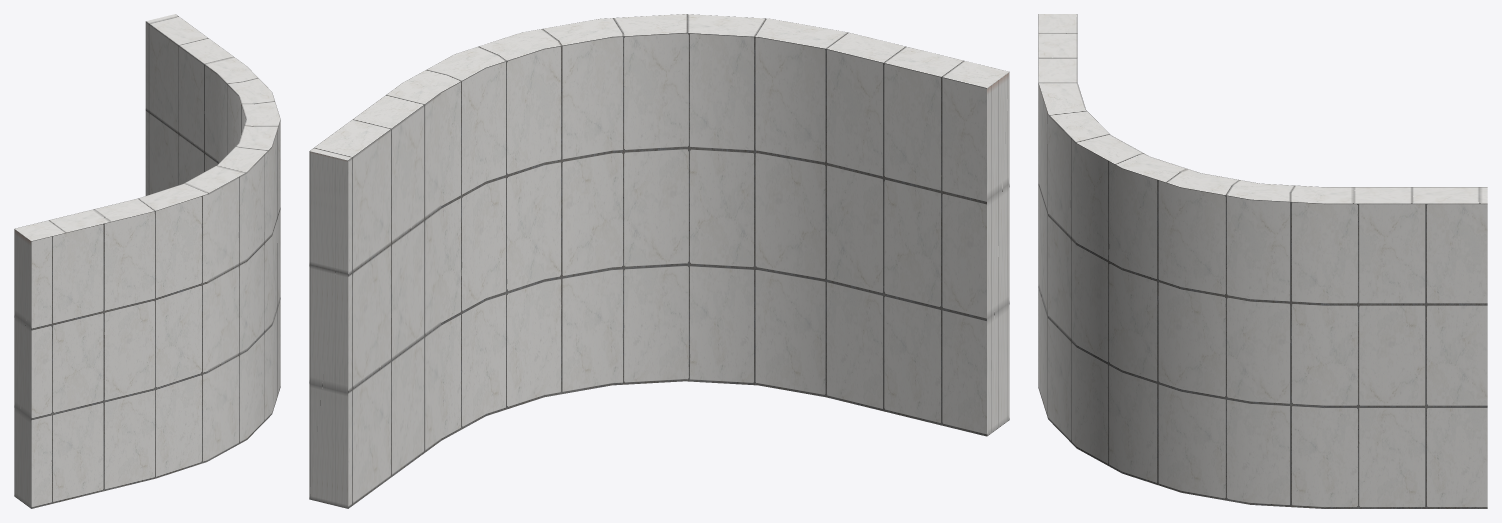
The model's file is WallCurveLowerPart_1.fbx.
3 views of the same model, side by side, from view 1: azimuth 30°, elevation 25°; view 2: azimuth 150°, elevation 25°; view 3: azimuth 270°, elevation 25° (orthographic). The views are drawn at different scales.
Visible parts, largest first — view 1: WallCurveLowerPart_1; view 2: WallCurveLowerPart_1; view 3: WallCurveLowerPart_1.
Part boxes in pixels (x1,y1,x2,y2): WallCurveLowerPart_1: [14, 14, 280, 508]; WallCurveLowerPart_1: [309, 14, 1009, 508]; WallCurveLowerPart_1: [1038, 14, 1487, 508].
Size of the model in its own units: 2 by 1.5 by 2.
